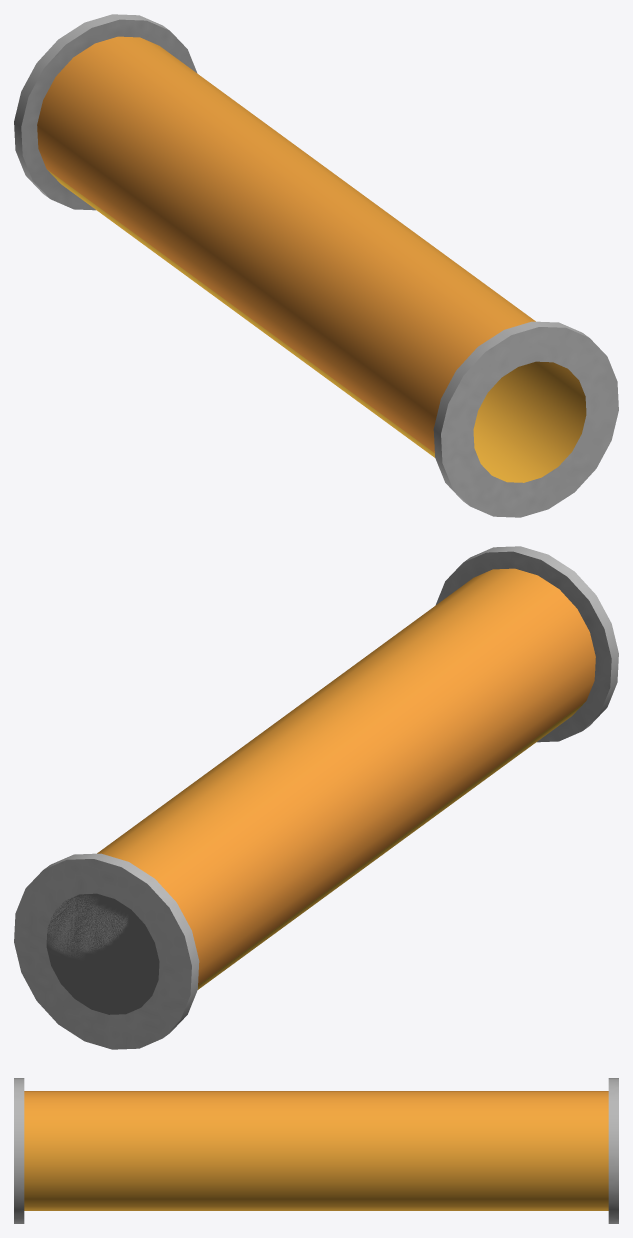
3 views of the same model, one above another, from view 1: azimuth 30°, elevation 25°; view 2: azimuth 150°, elevation 25°; view 3: azimuth 270°, elevation 25° (orthographic). The views are drawn at different scales.
Visible parts, largest first — view 1: Tube_Line_2; view 2: Tube_Line_2; view 3: Tube_Line_2.
Part boxes in pixels (box(x1,y1,x2,y2)): Tube_Line_2: box(14, 14, 618, 517); Tube_Line_2: box(14, 546, 618, 1049); Tube_Line_2: box(14, 1078, 618, 1223).
Size of the model in its own units: 6.79 by 6.79 by 28.19.
